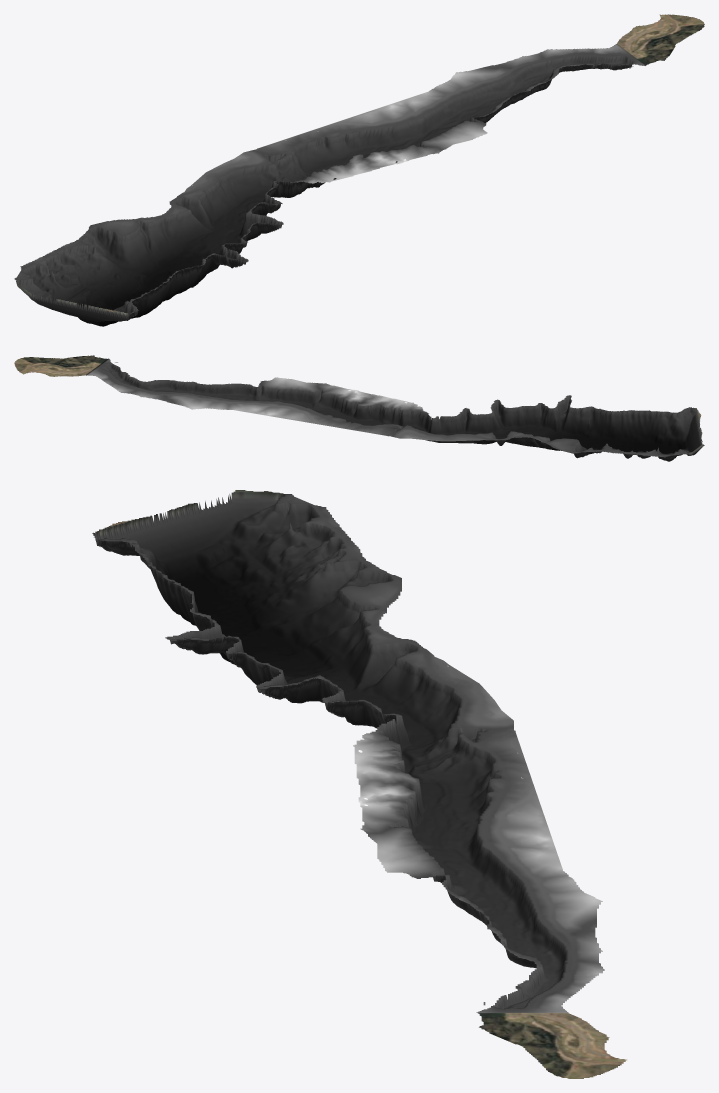
The picture shows the model from 3 angles, top to bottom: view 1: azimuth 30°, elevation 25°; view 2: azimuth 150°, elevation 25°; view 3: azimuth 270°, elevation 25°; orthographic projection. The views are drawn at different scales.
Visible parts, largest first — view 1: ahangaran; view 2: ahangaran; view 3: ahangaran.
Boxes of the visible parts, x1,y1,x2,y2 form: ahangaran: (14, 14, 704, 326); ahangaran: (14, 355, 704, 461); ahangaran: (92, 490, 626, 1078).
Bounding box in the file's own units: 10.19 × 0.4001 × 3.92.
Materials: 1 (1 with a texture image).
